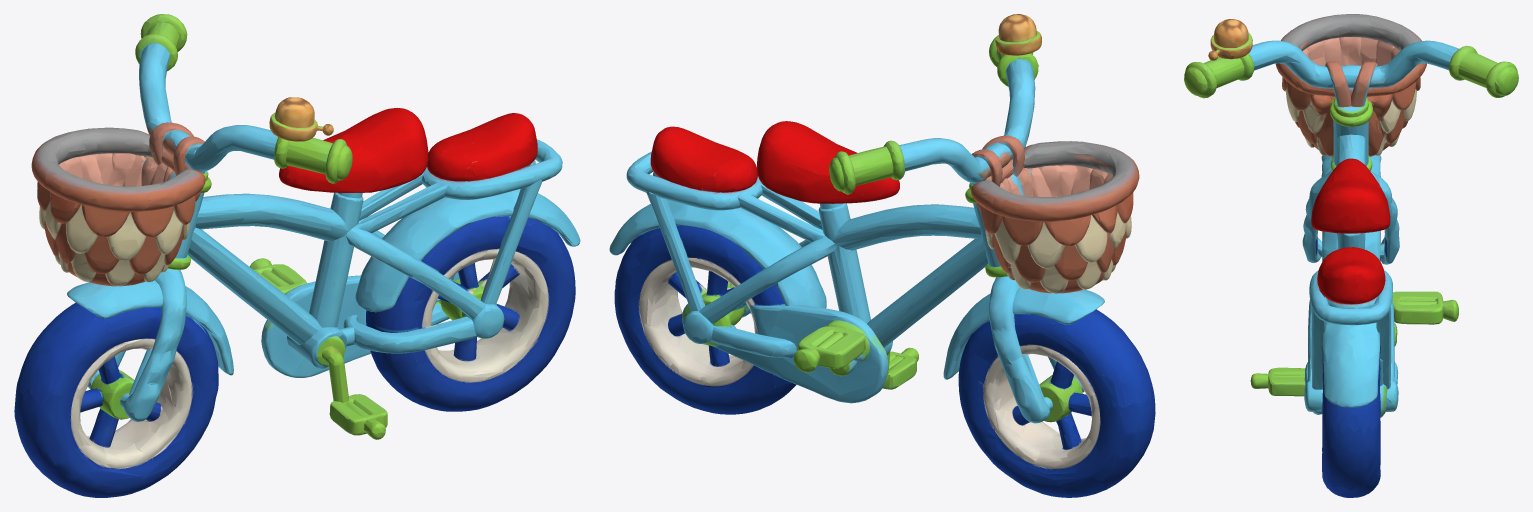
Rendered from meshy-1795740261439.glb.
3 views of the same model, side by side, from view 1: azimuth 30°, elevation 25°; view 2: azimuth 150°, elevation 25°; view 3: azimuth 270°, elevation 25° (orthographic). The views are drawn at different scales.
Size of the model in its own units: 1.9 by 1.36 by 1.14.
Materials: 1 (1 with a texture image).
